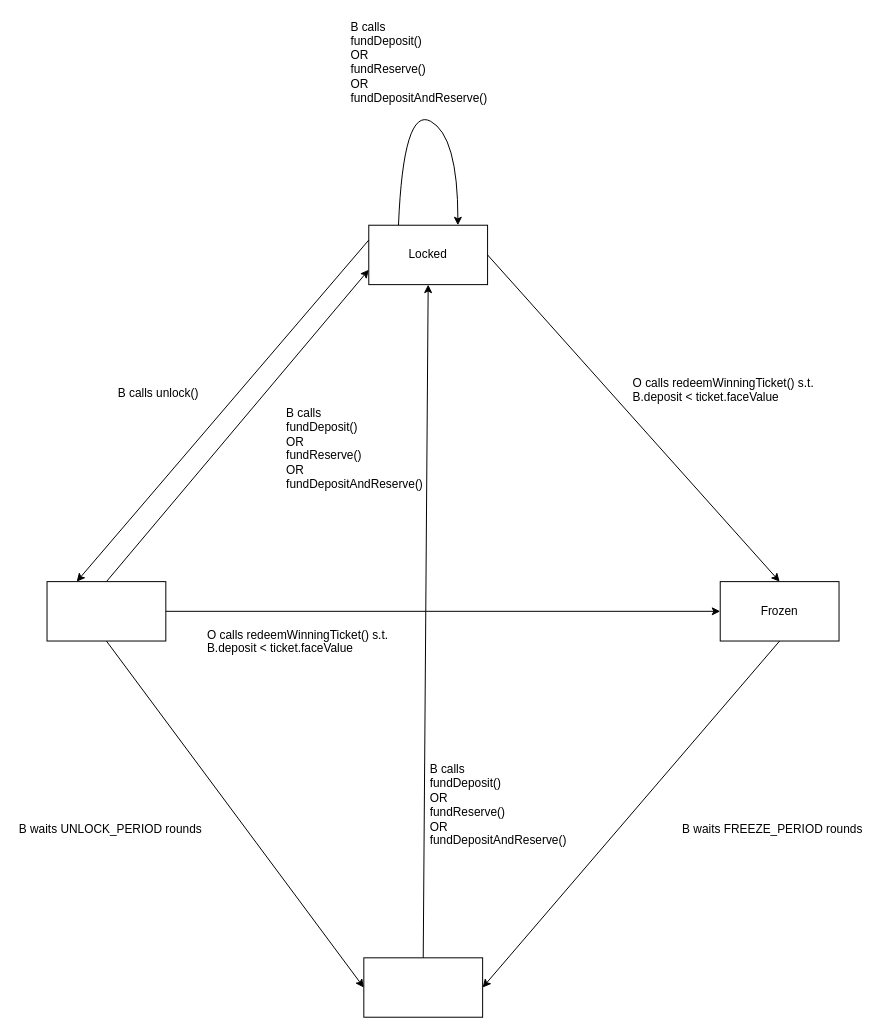
Some shapes in this 895 by 1035 pixel diagram are drawn without their labels. Each missing label, with the centre of its shape:
"Unlocked" goes at point (423, 987).
"Unlocking" goes at point (106, 611).
